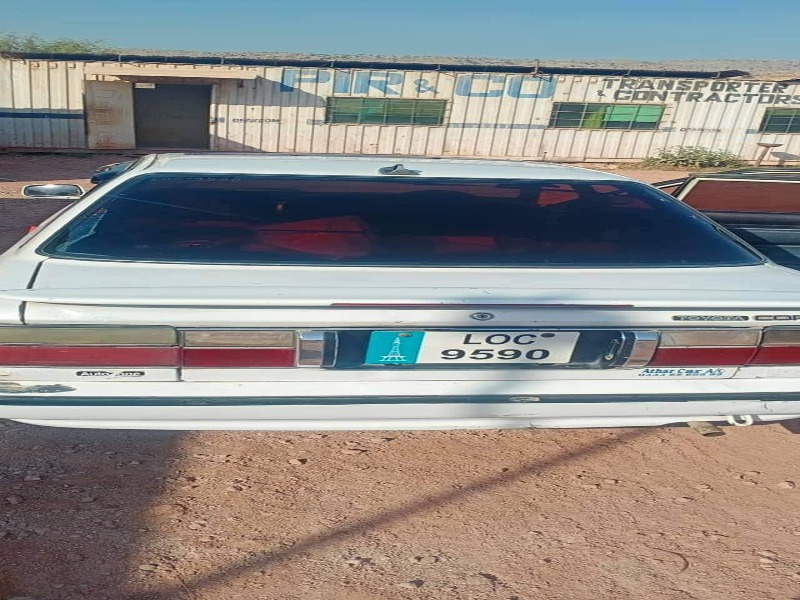License Plate: (367, 327, 586, 375)
